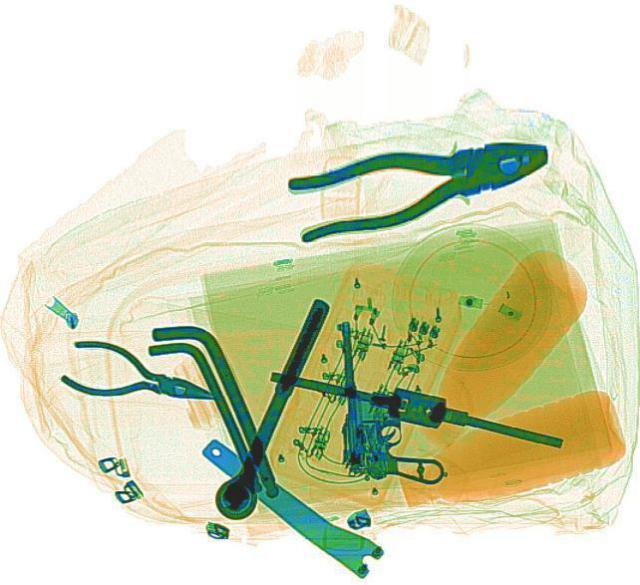Gun: (336, 316, 442, 486)
Pliers: (274, 120, 558, 244), (55, 332, 223, 422)
